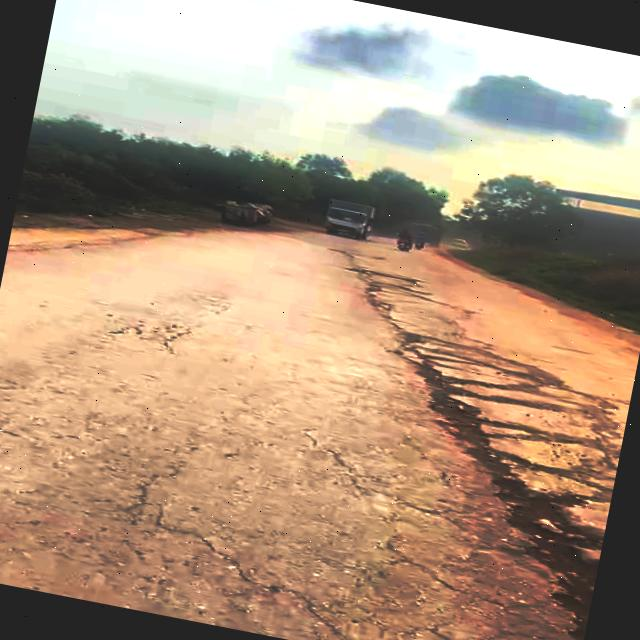pothole: (378, 332, 630, 486), (444, 438, 617, 640)
